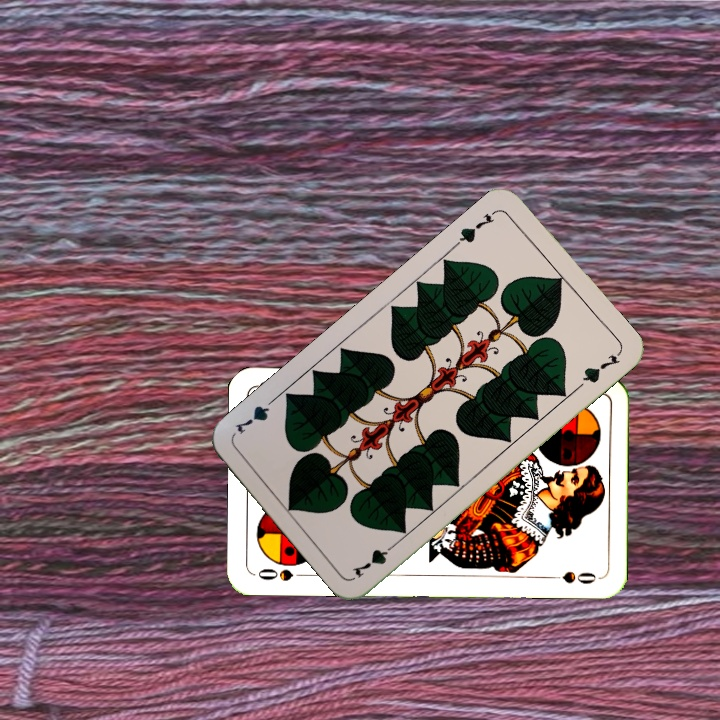G7: (348, 537, 401, 581), (451, 205, 500, 249)
SO: (254, 564, 311, 583)
